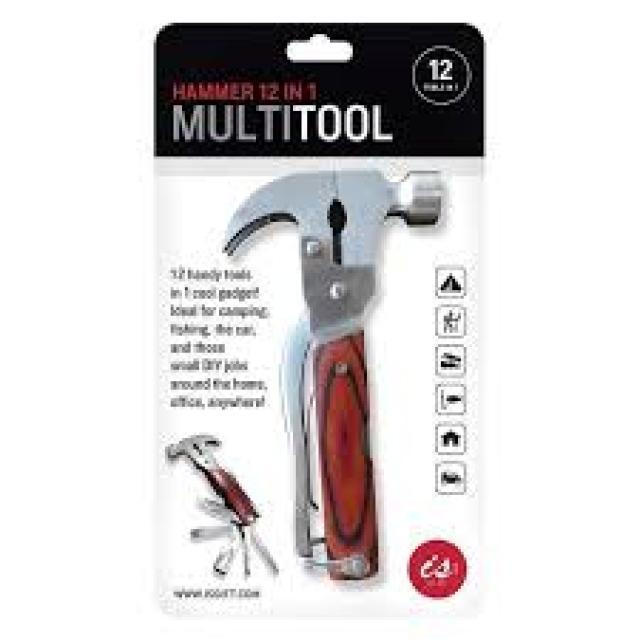Palu: (220, 166, 464, 577)
